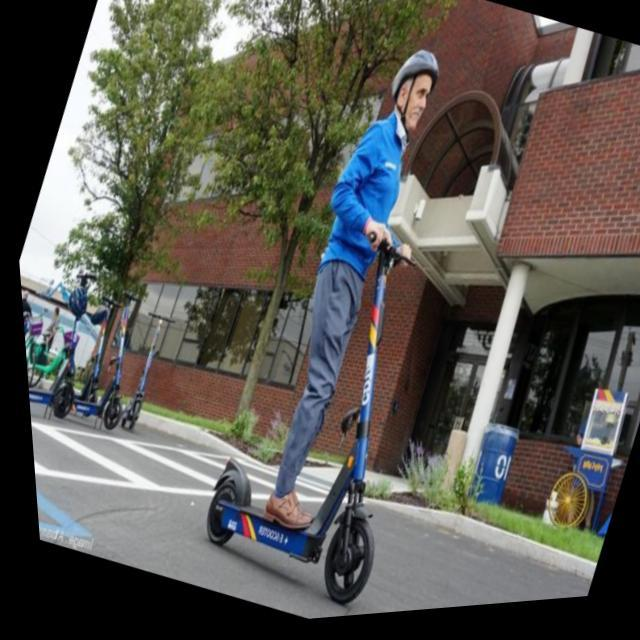Helmet: (376, 43, 441, 135)
